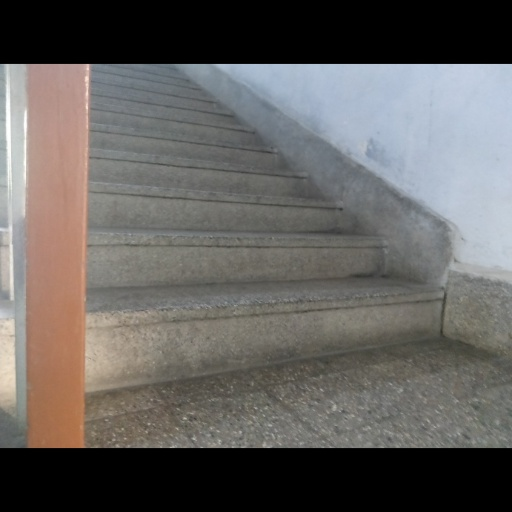Stairs: (87, 66, 441, 392)
